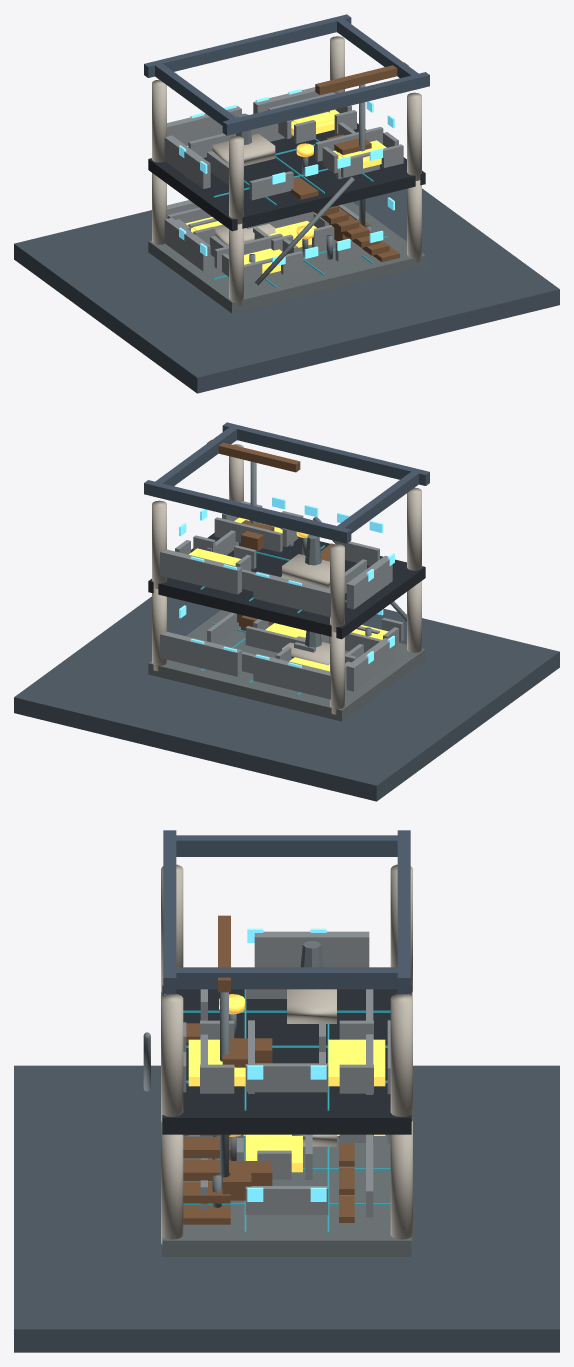
3 renders of one model, top to bottom at view 1: azimuth 30°, elevation 25°; view 2: azimuth 150°, elevation 25°; view 3: azimuth 270°, elevation 25°, orthographic. The views are drawn at different scales.
Visible parts, largest first — view 1: ProfileGround.019, BuildingFloor_2.014, BuildingFloor_1.014, RoofEaveSouth_visual_workshop, RoofEaveNorth_visual_workshop, RoofEaveWest_visual_workshop, SideWall_2.014, SideWall_1.014, RoofEaveEast_visual_workshop, Column_2_1_-1.014, Column_2_-1_-1.014, BackWall_2_-1.014 (+15 smaller); view 2: ProfileGround.019, BuildingFloor_2.014, BuildingFloor_1.014, RoofEaveNorth_visual_workshop, RoofEaveSouth_visual_workshop, BackWall_2_1.014, BackWall_1_1.014, BackWall_1_-1.014, BackWall_2_-1.014, RoofEaveWest_visual_workshop, SideWall_1.014, SideWall_2.014 (+15 smaller); view 3: ProfileGround.019, BuildingFloor_2.014, BuildingFloor_1.014, RoofEaveEast_visual_workshop, RoofEaveWest_visual_workshop, SideWall_2.014, Column_2_1_-1.014, Column_2_1_1.014, Column_1_1_-1.014, Column_1_1_1.014, RoofEaveSouth_visual_workshop, RoofEaveNorth_visual_workshop (+20 smaller).
Boxes of the visible parts, left/top/right/bottom form: ProfileGround.019: left=14, top=188, right=559, bottom=393; BuildingFloor_2.014: left=148, top=123, right=425, bottom=231; BuildingFloor_1.014: left=148, top=202, right=425, bottom=313; RoofEaveSouth_visual_workshop: left=222, top=72, right=429, bottom=135; RoofEaveNorth_visual_workshop: left=144, top=14, right=351, bottom=77; RoofEaveWest_visual_workshop: left=155, top=63, right=236, bottom=125; SideWall_2.014: left=164, top=135, right=210, bottom=188; SideWall_1.014: left=164, top=218, right=210, bottom=271; RoofEaveEast_visual_workshop: left=337, top=19, right=418, bottom=78; Column_2_1_-1.014: left=407, top=92, right=421, bottom=180; Column_2_-1_-1.014: left=229, top=136, right=243, bottom=224; BackWall_2_-1.014: left=167, top=106, right=241, bottom=145; ProfileGround.019: left=14, top=596, right=559, bottom=801; BuildingFloor_2.014: left=148, top=533, right=425, bottom=639; BuildingFloor_1.014: left=148, top=610, right=425, bottom=721; RoofEaveNorth_visual_workshop: left=144, top=480, right=351, bottom=543; RoofEaveSouth_visual_workshop: left=222, top=422, right=429, bottom=485; BackWall_2_1.014: left=160, top=549, right=241, bottom=594; BackWall_1_1.014: left=160, top=631, right=241, bottom=676; BackWall_1_-1.014: left=253, top=654, right=330, bottom=699; BackWall_2_-1.014: left=253, top=571, right=330, bottom=617; RoofEaveWest_visual_workshop: left=337, top=471, right=418, bottom=533; SideWall_1.014: left=346, top=638, right=392, bottom=691; SideWall_2.014: left=346, top=555, right=392, bottom=609; ProfileGround.019: left=14, top=1065, right=559, bottom=1352; BuildingFloor_2.014: left=162, top=985, right=411, bottom=1134; BuildingFloor_1.014: left=162, top=1135, right=411, bottom=1256; RoofEaveEast_visual_workshop: left=174, top=967, right=399, bottom=989; RoofEaveWest_visual_workshop: left=176, top=835, right=398, bottom=856; SideWall_2.014: left=254, top=931, right=369, bottom=967; Column_2_1_-1.014: left=161, top=994, right=183, bottom=1121; Column_2_1_1.014: left=390, top=994, right=412, bottom=1121; Column_1_1_-1.014: left=161, top=1121, right=183, bottom=1244; Column_1_1_1.014: left=390, top=1121, right=412, bottom=1244; RoofEaveSouth_visual_workshop: left=163, top=830, right=176, bottom=994; RoofEaveNorth_visual_workshop: left=397, top=830, right=410, bottom=994.
Size of the model in its own units: 4.8 by 2.69 by 4.2.
